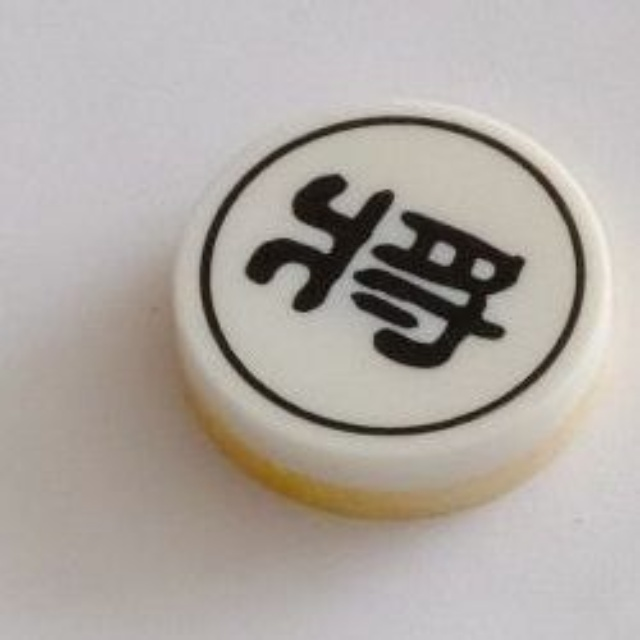black_tuong: (162, 97, 620, 535)
